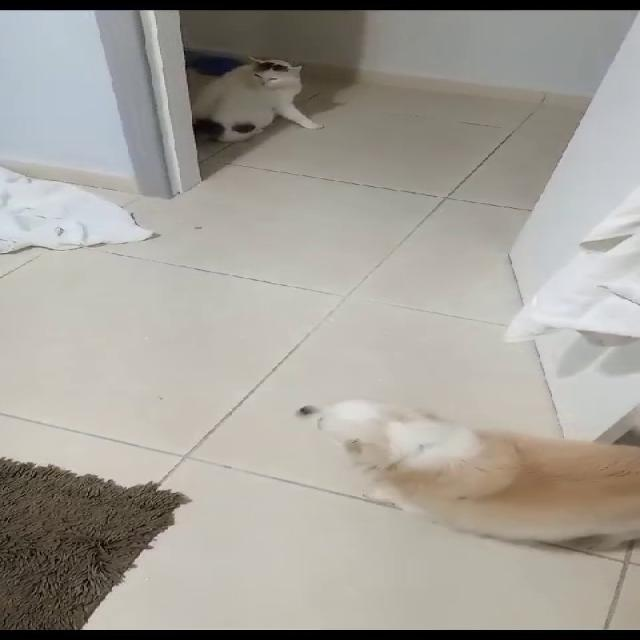Simba: (176, 26, 350, 163)
Theo: (306, 379, 639, 558)
